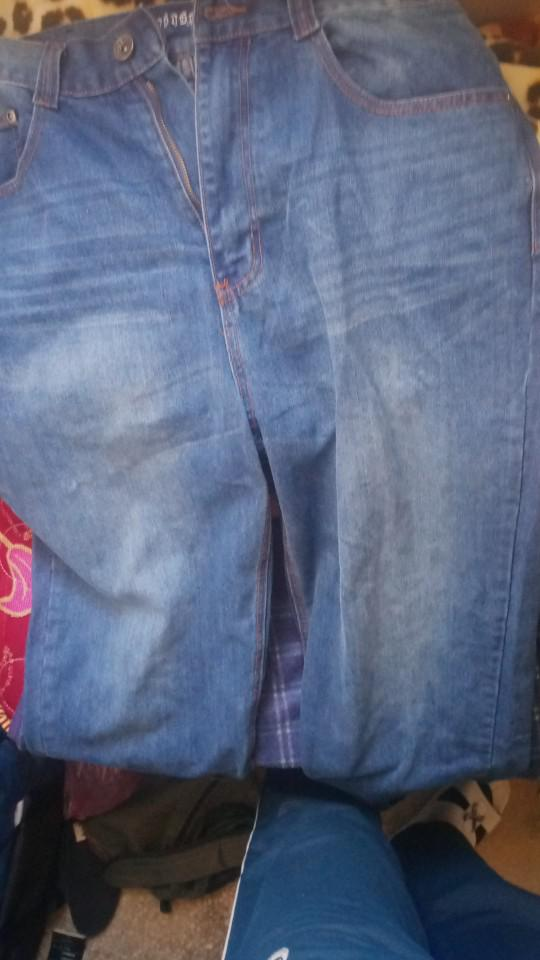jeans: (18, 15, 540, 812)
